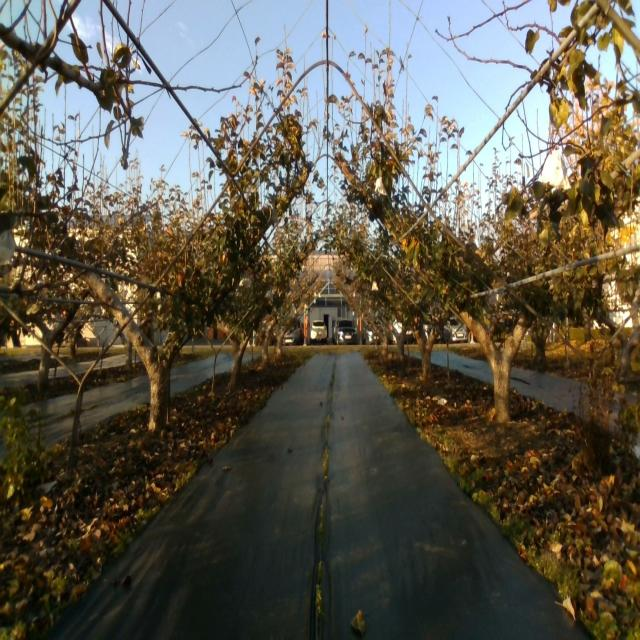pearbags: (539, 149, 572, 190), (0, 229, 16, 264), (375, 177, 387, 196)
